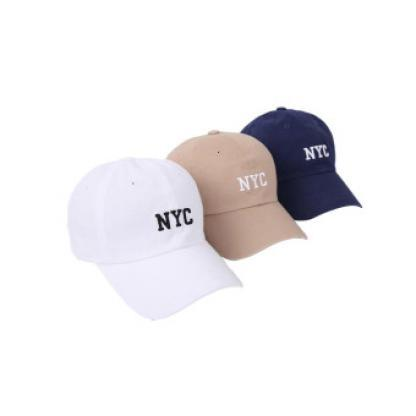cap: (59, 147, 246, 325)
